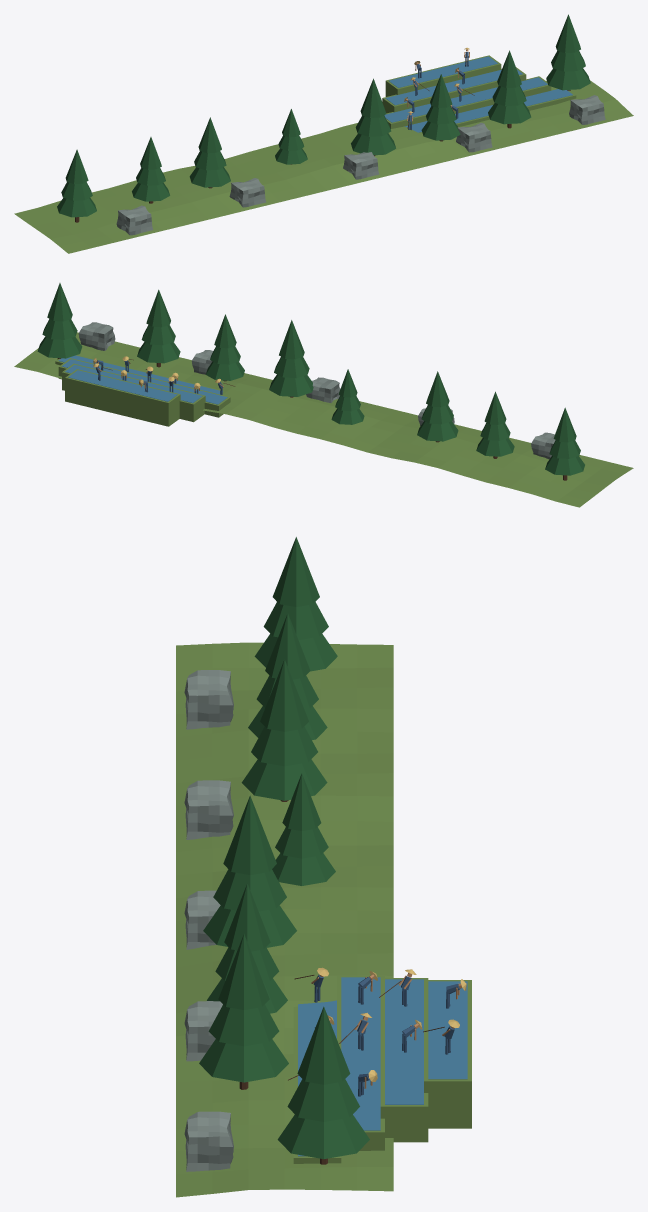
Rendered from china_bg_near.fbx.
The picture shows the model from 3 angles, top to bottom: view 1: azimuth 30°, elevation 25°; view 2: azimuth 150°, elevation 25°; view 3: azimuth 270°, elevation 25°; orthographic projection. The views are drawn at different scales.
Parts seen in each view (by area): view 1: china_bg_near; view 2: china_bg_near; view 3: china_bg_near.
Part boxes in pixels (<box>): china_bg_near: <box>14,14,633,253</box>; china_bg_near: <box>14,283,633,507</box>; china_bg_near: <box>176,537,471,1197</box>.
Size of the model in its own units: 60 by 8.55 by 13.6.
